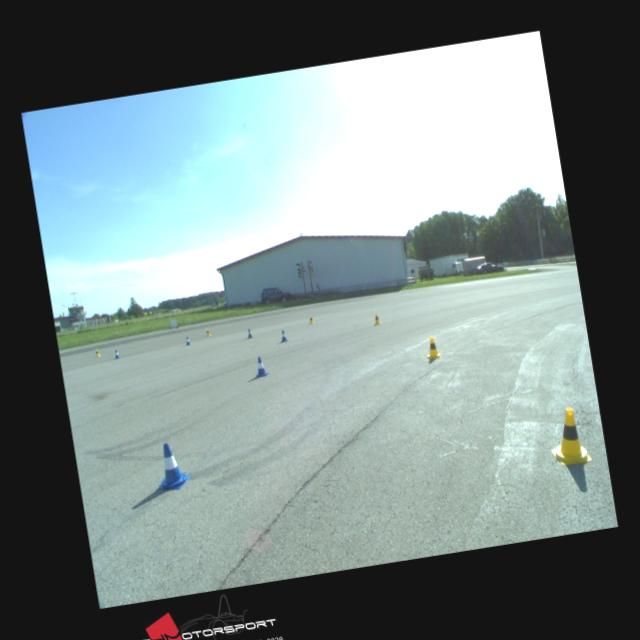blue_cone: (150, 440, 192, 492), (252, 356, 268, 377), (280, 330, 288, 342), (246, 328, 253, 338), (185, 336, 191, 346), (114, 349, 120, 359)
yellow_cone: (545, 404, 592, 468), (424, 334, 440, 358), (372, 312, 380, 326), (308, 315, 315, 324), (205, 328, 211, 337), (95, 348, 101, 357)
